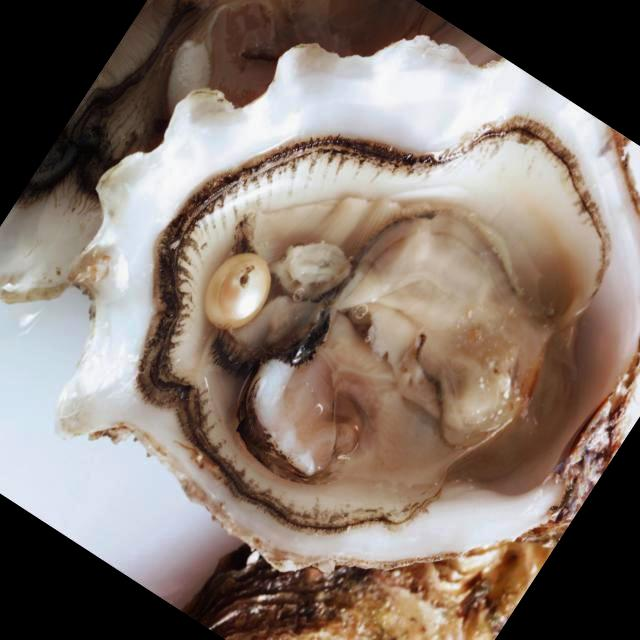Oyster-Closed: (188, 543, 544, 640)
Oyster-Open: (54, 36, 640, 563)
